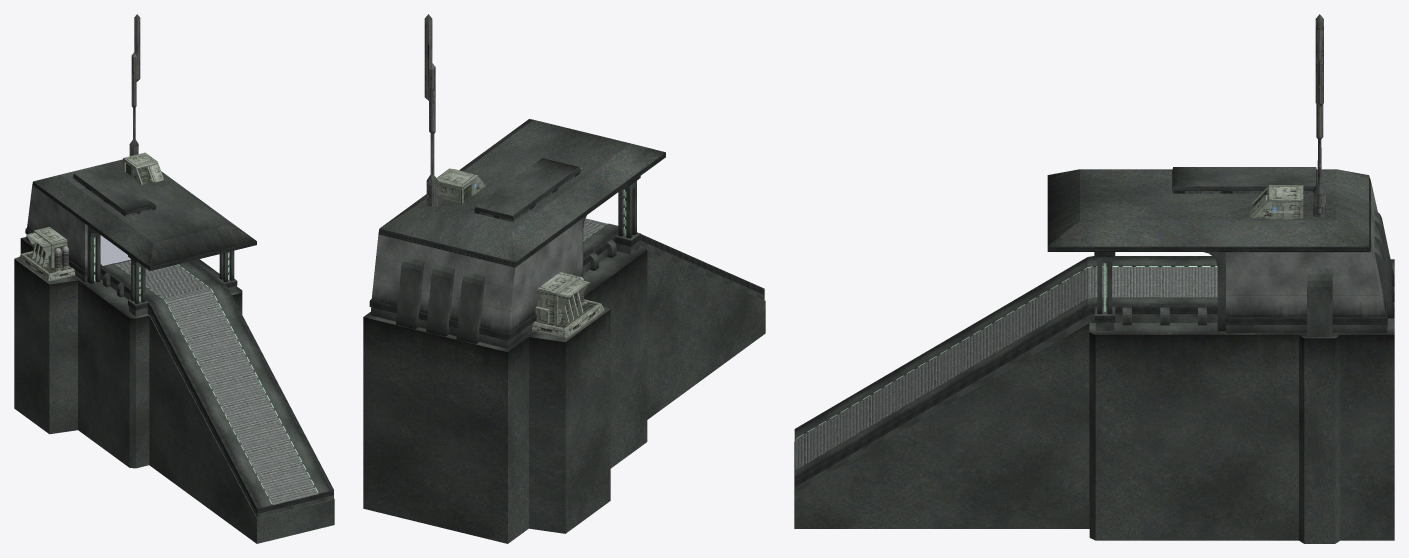
The model's file is ply_corl_garage_s01_l0.fbx.
3 views of the same model, side by side, from view 1: azimuth 30°, elevation 25°; view 2: azimuth 150°, elevation 25°; view 3: azimuth 270°, elevation 25° (orthographic). The views are drawn at different scales.
Parts seen in each view (by area): view 1: mesh_node; view 2: mesh_node; view 3: mesh_node.
Part boxes in pixels (left/top/right/bottom): mesh_node: left=14, top=14, right=334, bottom=543; mesh_node: left=363, top=14, right=765, bottom=543; mesh_node: left=794, top=14, right=1394, bottom=543.
Size of the model in its own units: 12.13 by 30.03 by 32.
